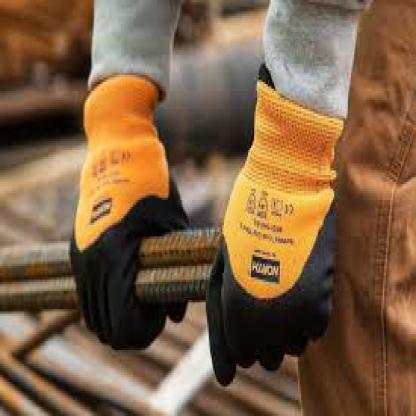with_gloves: (204, 63, 345, 388), (68, 75, 192, 352)
